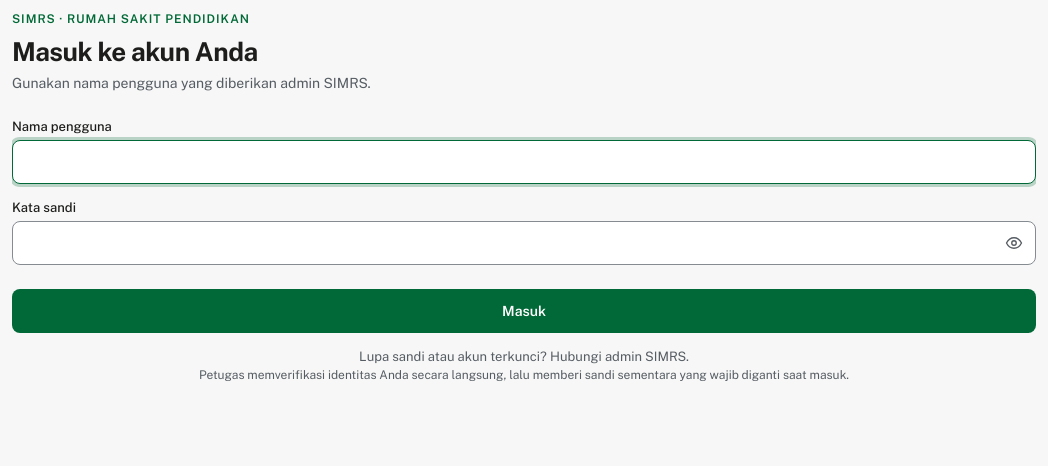
LangkahSandi › rate limit 429: kalimat frontend, tanpa "Coba lagi" ganda
The width and height of the screenshot is (1048, 466).
Type "contoh.perawat" into the field with id "nama-pengguna" at (524, 162), box [12,140,1036,184]
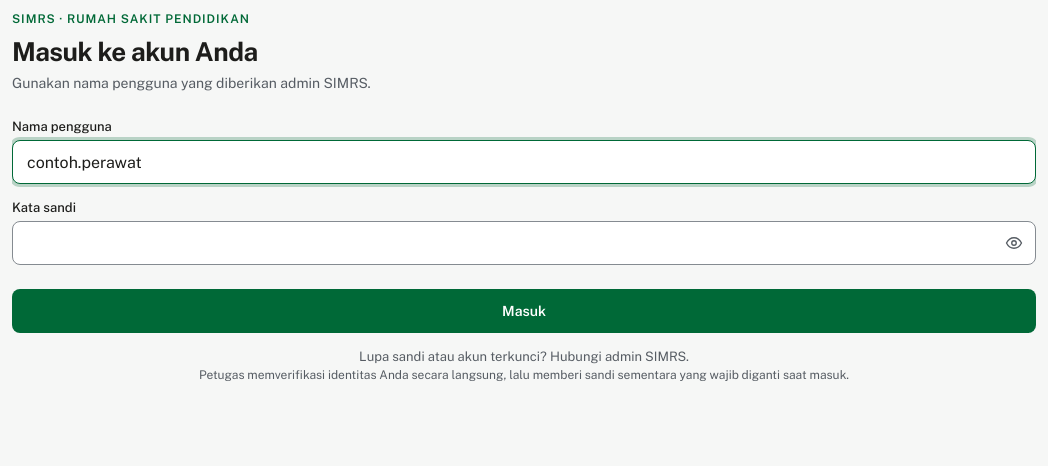
Type "sandi-panjang-sekali" into the password field with id "sandi" at (524, 243), box [12,221,1036,265]
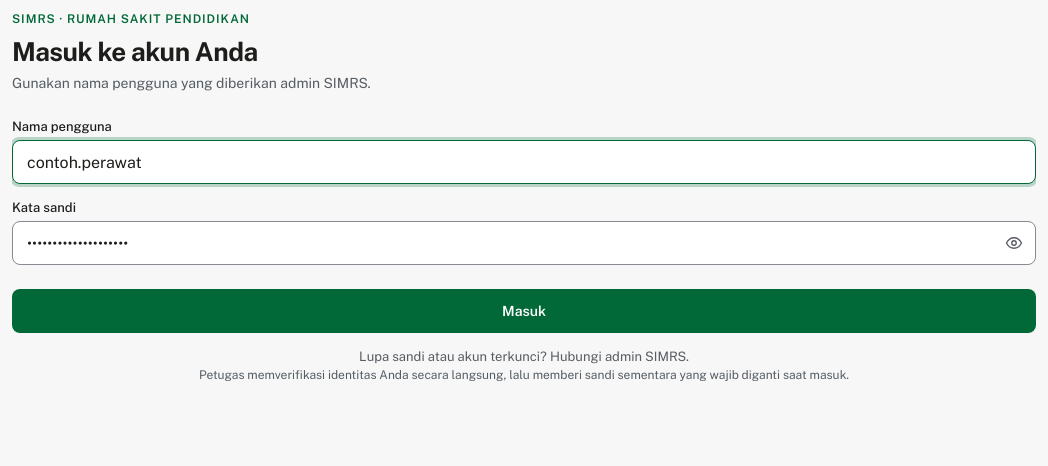
Submit the form, box [12,119,1036,333]
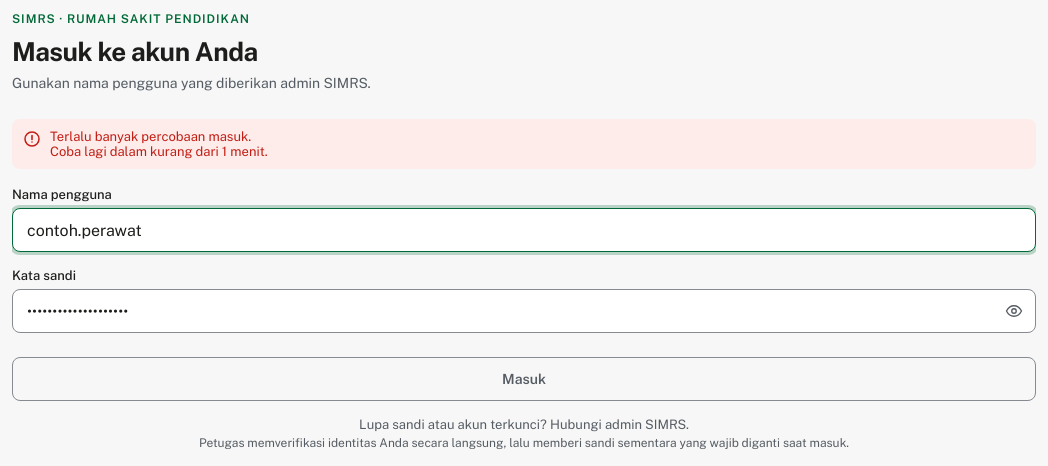
Now the message "Terlalu banyak percobaan masuk. Coba lagi dalam kurang dari 1 menit." is shown, box [12,119,1036,169]
